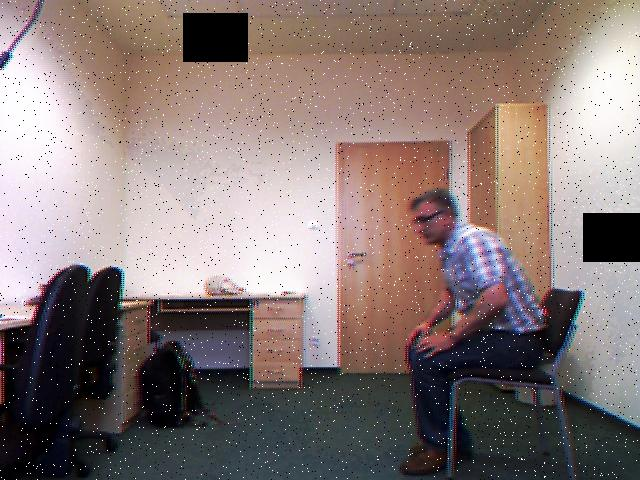sitting: (388, 179, 560, 480)
